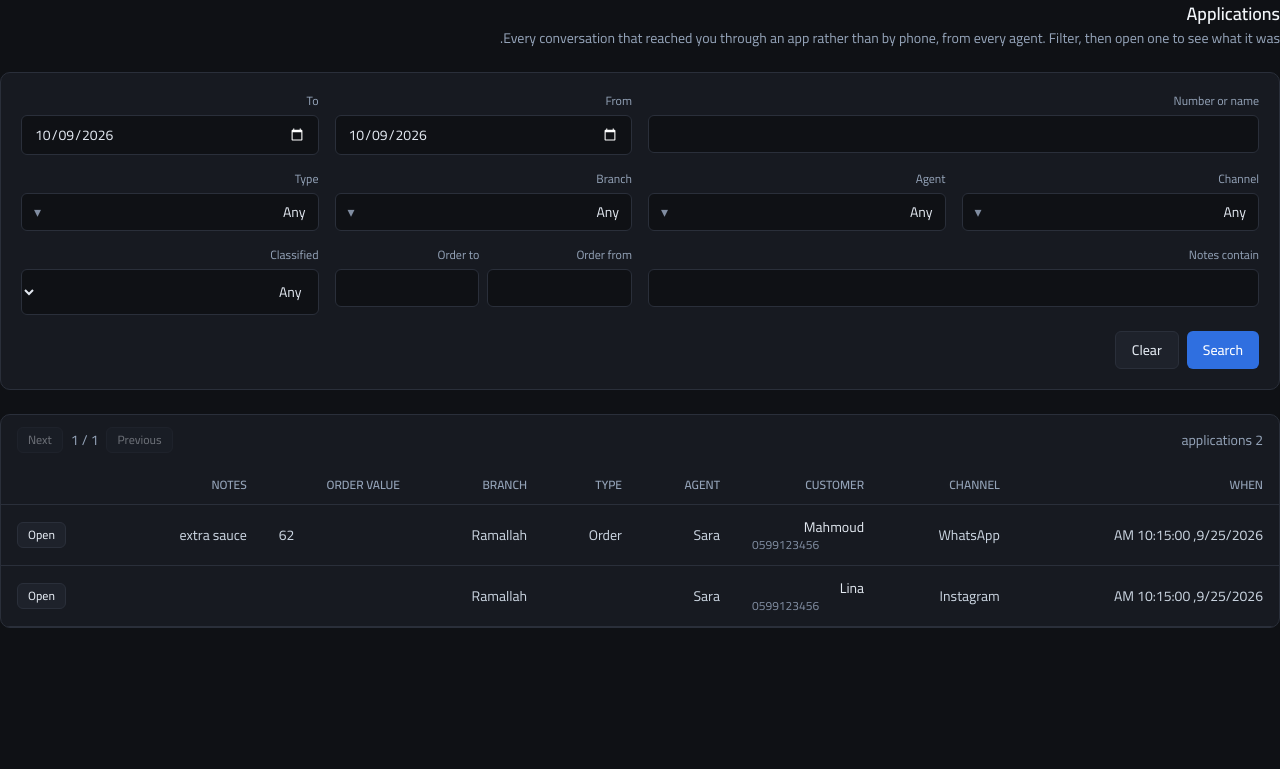
applications page › opens a message under its own row, with its channel and classification, and Edit
Double-click the text "Mahmoud".
double_click(640, 535)  # box [1,505,1279,566]
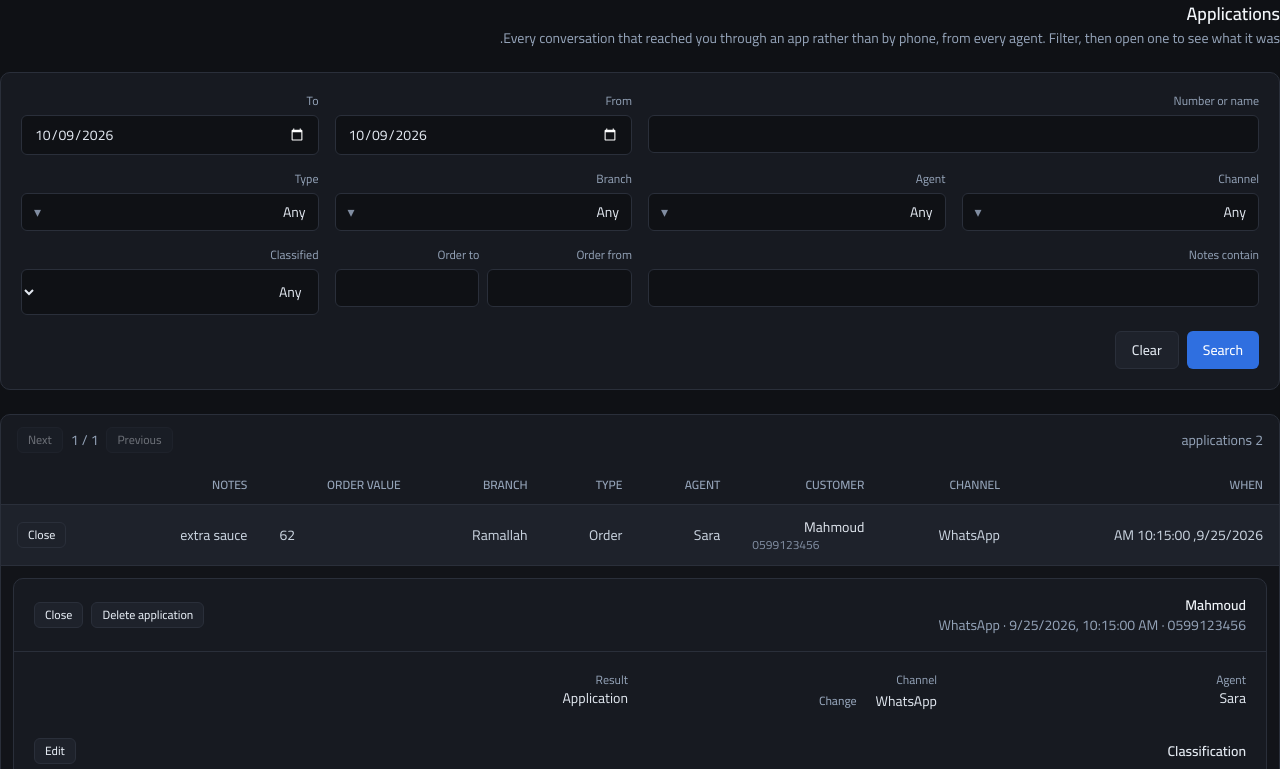
Result: the text "WhatsApp" is shown at [876,688,937,714]
Result: the text "Application" is shown at [562,685,628,711]
Result: the button "Edit" is shown at [34,738,76,764]
